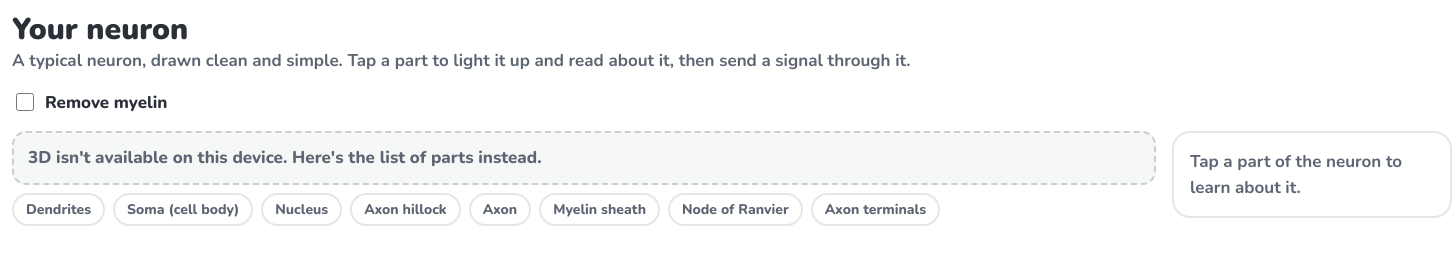
removing the myelin hides the myelin and its nodes, and clears a selection of them
Click the button "Myelin sheath" at (600, 209), box [539, 192, 660, 226]
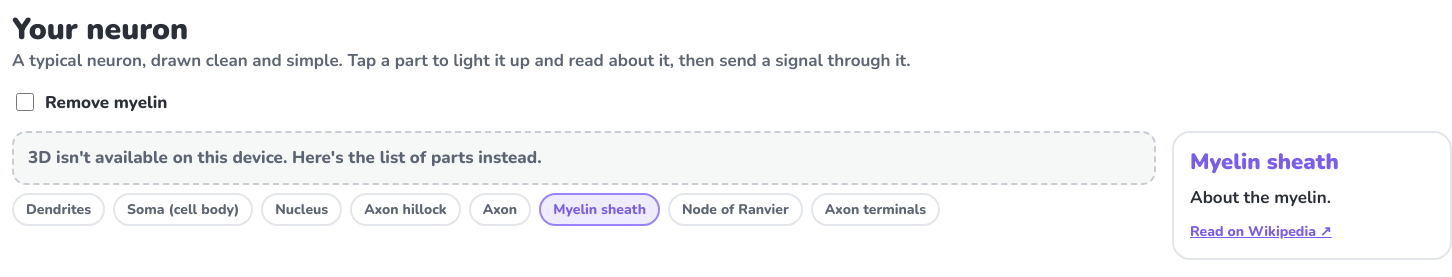
Check: the heading "Myelin sheath" is shown, box [1190, 147, 1339, 177]
Click the checkbox labelled "Remove myelin" at (25, 102), box [16, 93, 34, 111]
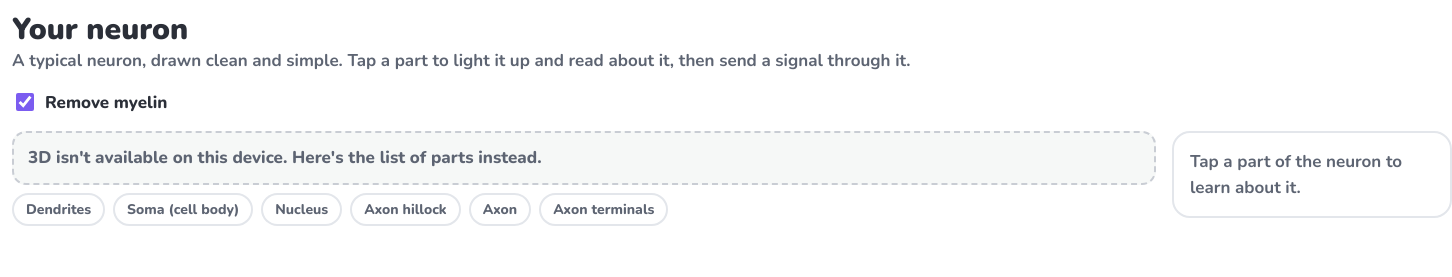
Check: the button "Myelin sheath" is gone
Check: the button "Node of Ranvier" is gone
Check: the text "Tap a part of the neuron to learn about it." is shown, box [1190, 149, 1434, 200]
